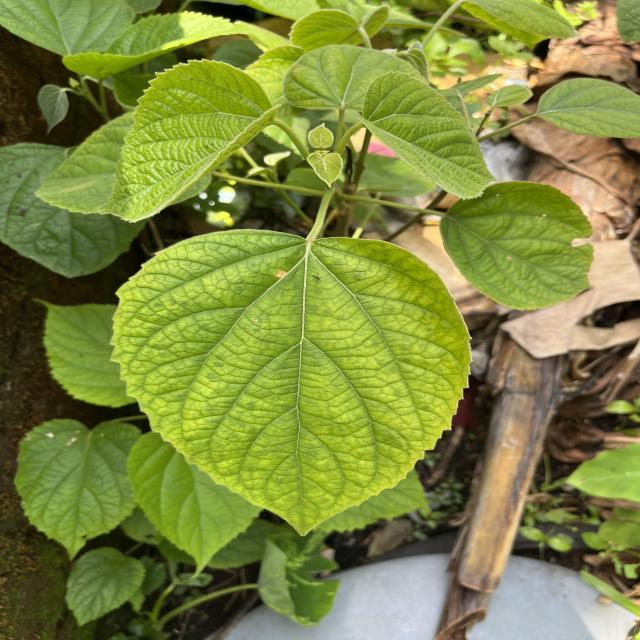Clerodendrum infortunatum: (107, 227, 480, 540), (93, 56, 284, 225), (124, 430, 264, 582), (439, 181, 596, 312), (11, 417, 144, 562), (356, 70, 498, 202), (30, 295, 138, 408)
